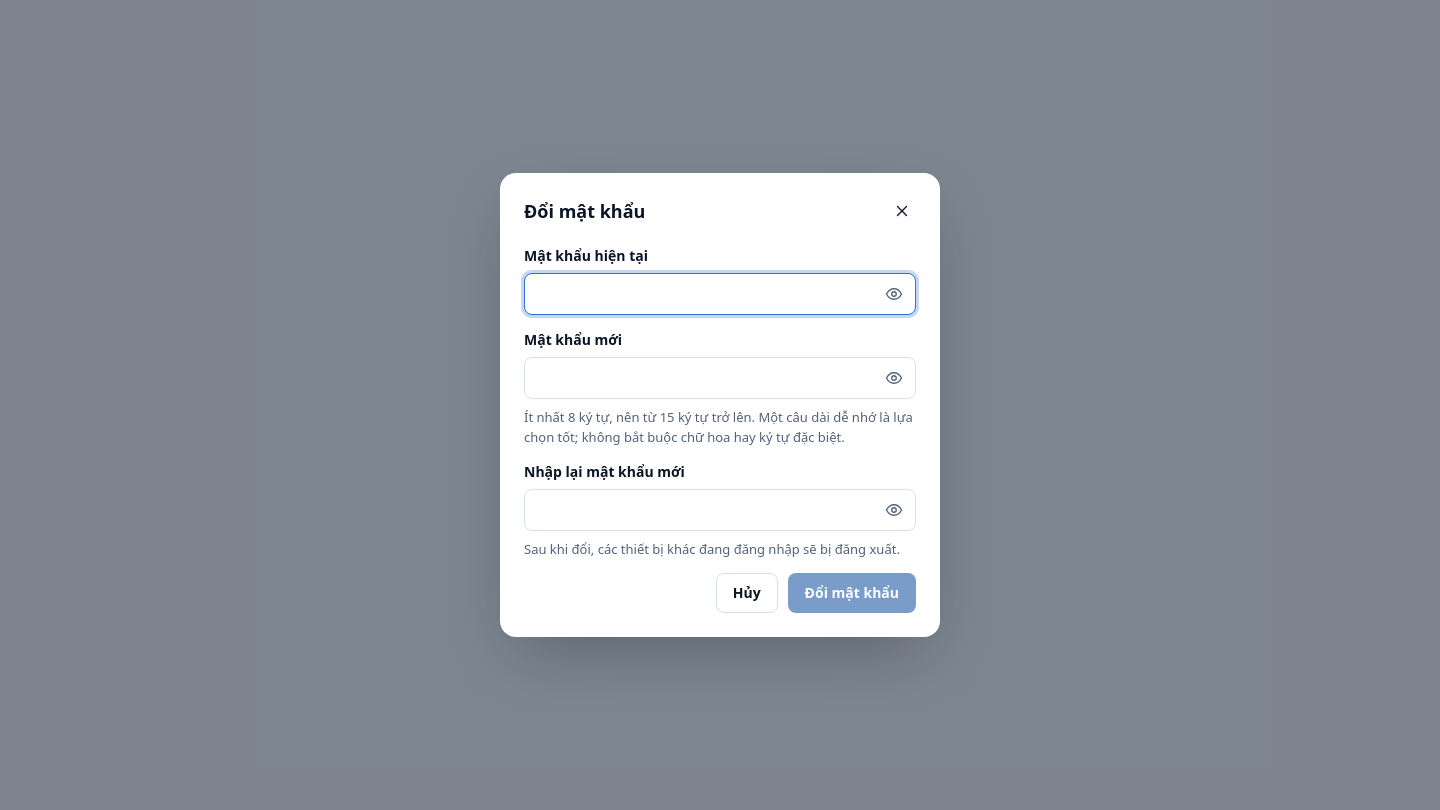
Test: ChangePasswordDialog › sai mật khẩu hiện tại: báo rõ, không đóng hộp
Step 1. Type "mat khau cu bi sai" into the password field labelled "Mật khẩu hiện tại" → (720, 294), box [524,273,916,315]
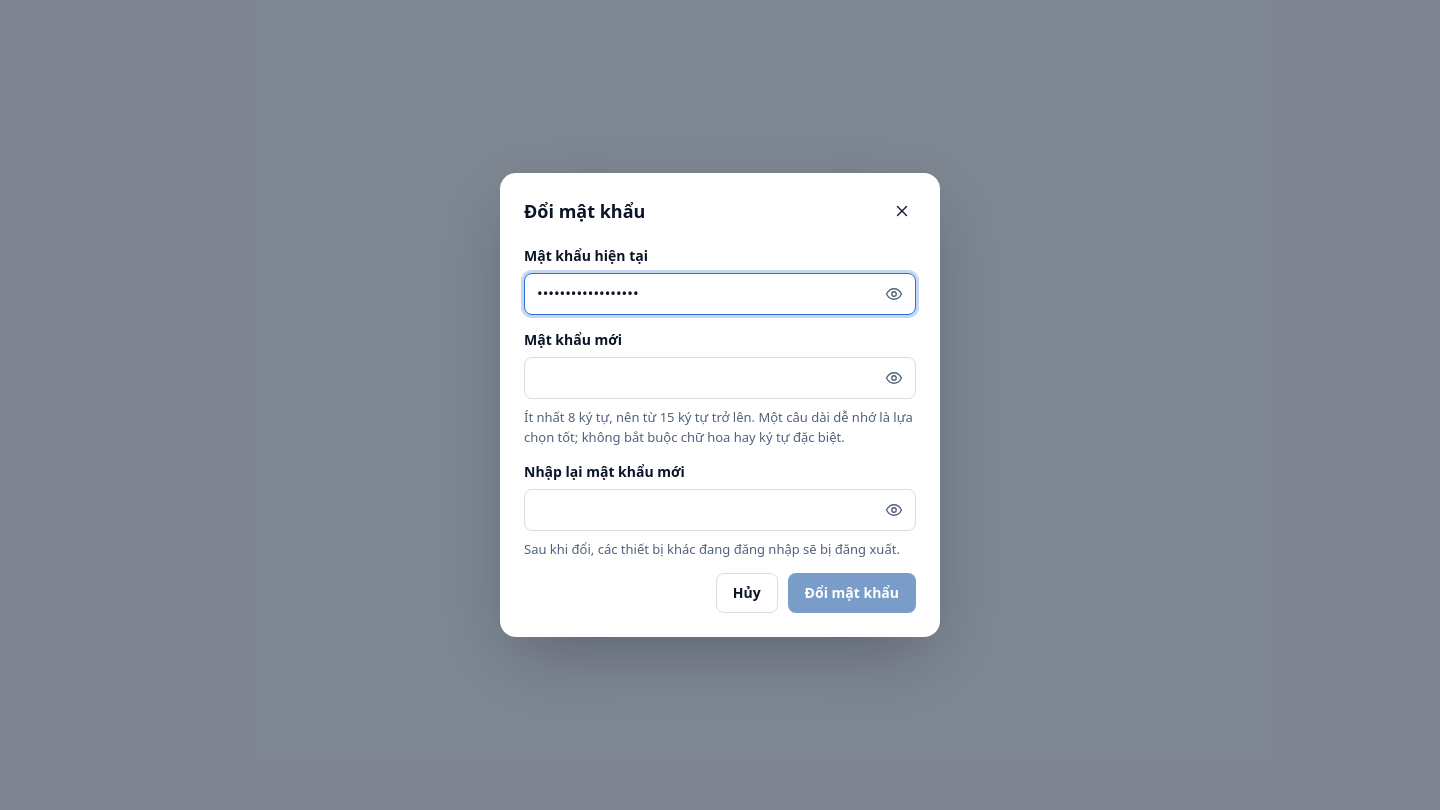
Step 2. Type "mot cau mat khau moi du dai" into the password field labelled "Mật khẩu mới" → (720, 378), box [524,357,916,399]
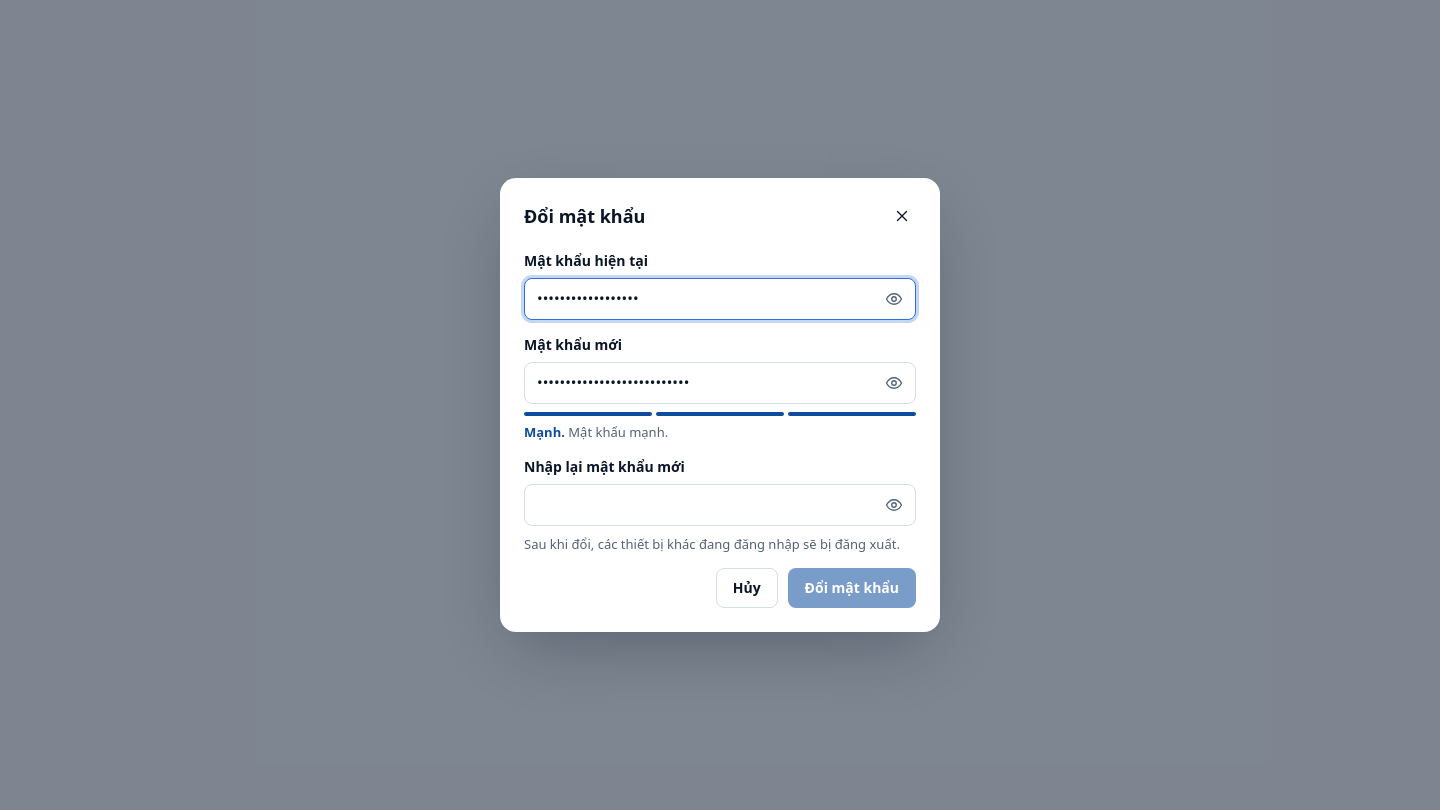
Step 3. Type "mot cau mat khau moi du dai" into the password field labelled "Nhập lại mật khẩu mới" → (720, 504), box [524,484,916,526]
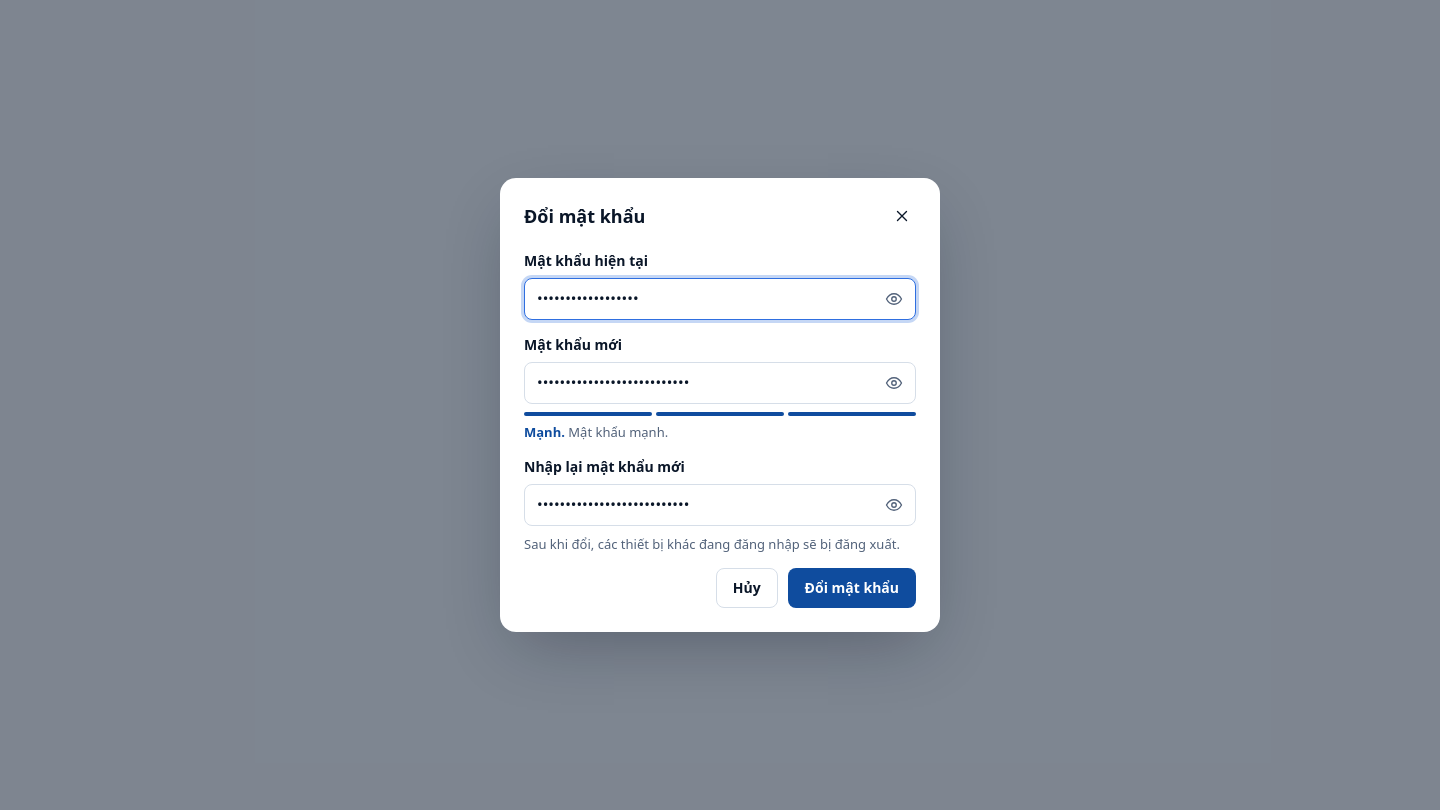
Step 4. Click the button "Đổi mật khẩu" → (852, 588), box [788,568,916,608]
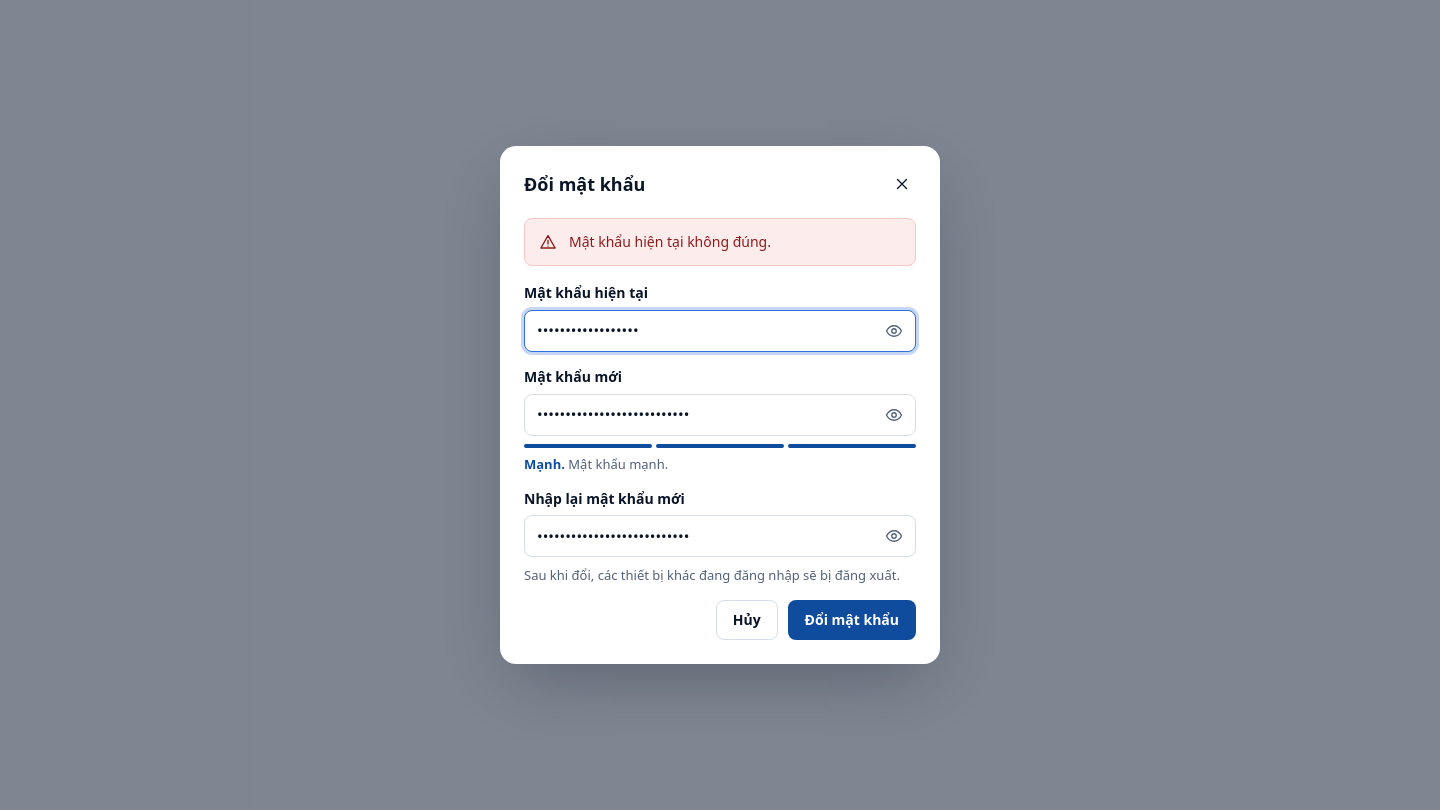
Now the text "Mật khẩu hiện tại không đúng." is shown, box [569,232,771,252]
